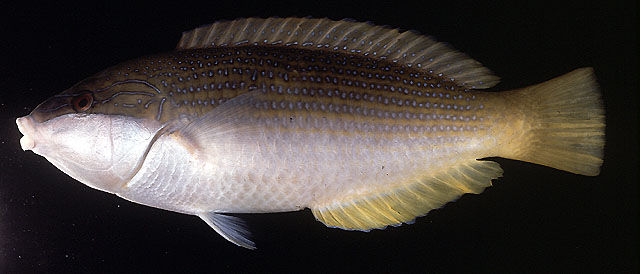fish: (16, 16, 606, 252)
